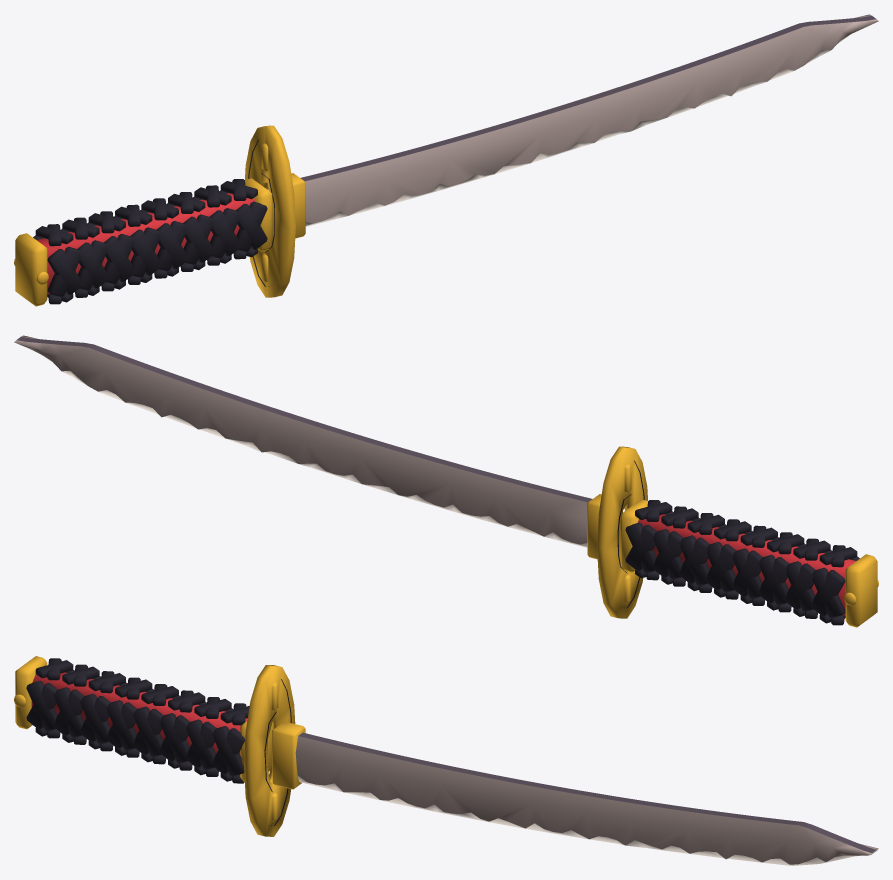
3 views of the same model, one above another, from view 1: azimuth 30°, elevation 25°; view 2: azimuth 150°, elevation 25°; view 3: azimuth 330°, elevation 25° (orthographic).
Bounding box in the file's own units: 1.26 × 0.24 × 0.112.
